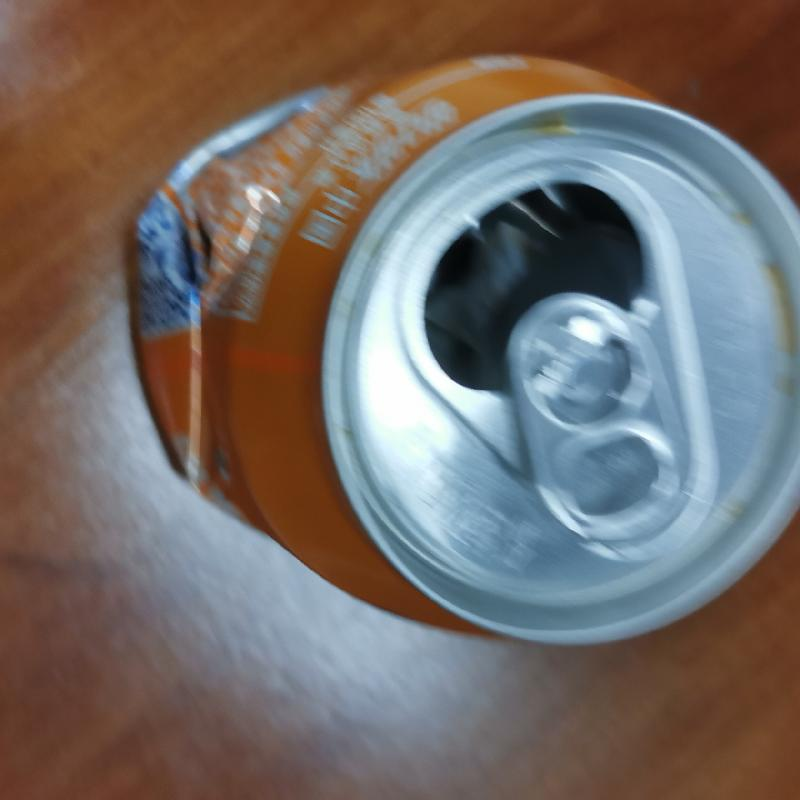cans: (118, 48, 800, 647)
